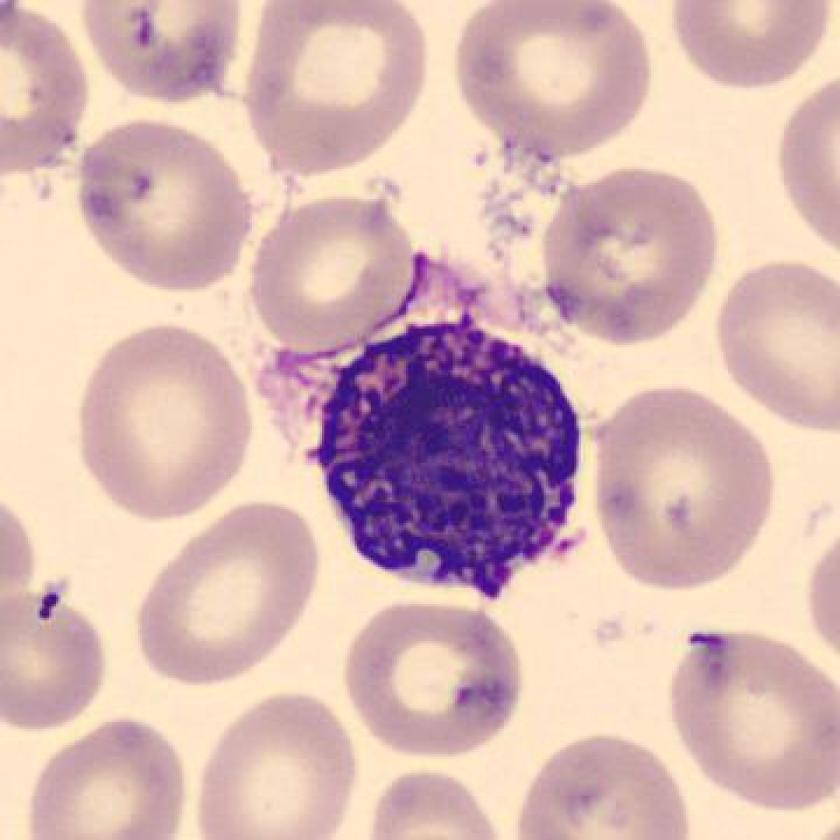basophil: (321, 320, 587, 591)
